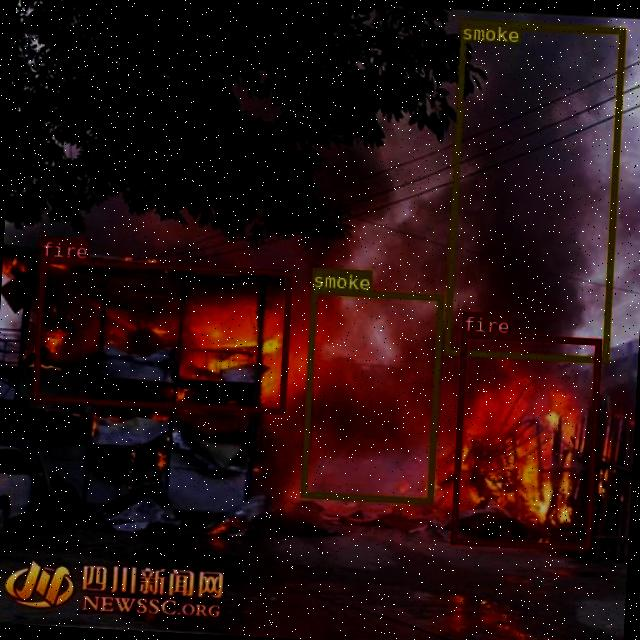fire: (31, 256, 292, 412), (450, 330, 600, 550)
smoke: (443, 19, 625, 362), (300, 287, 442, 503)
